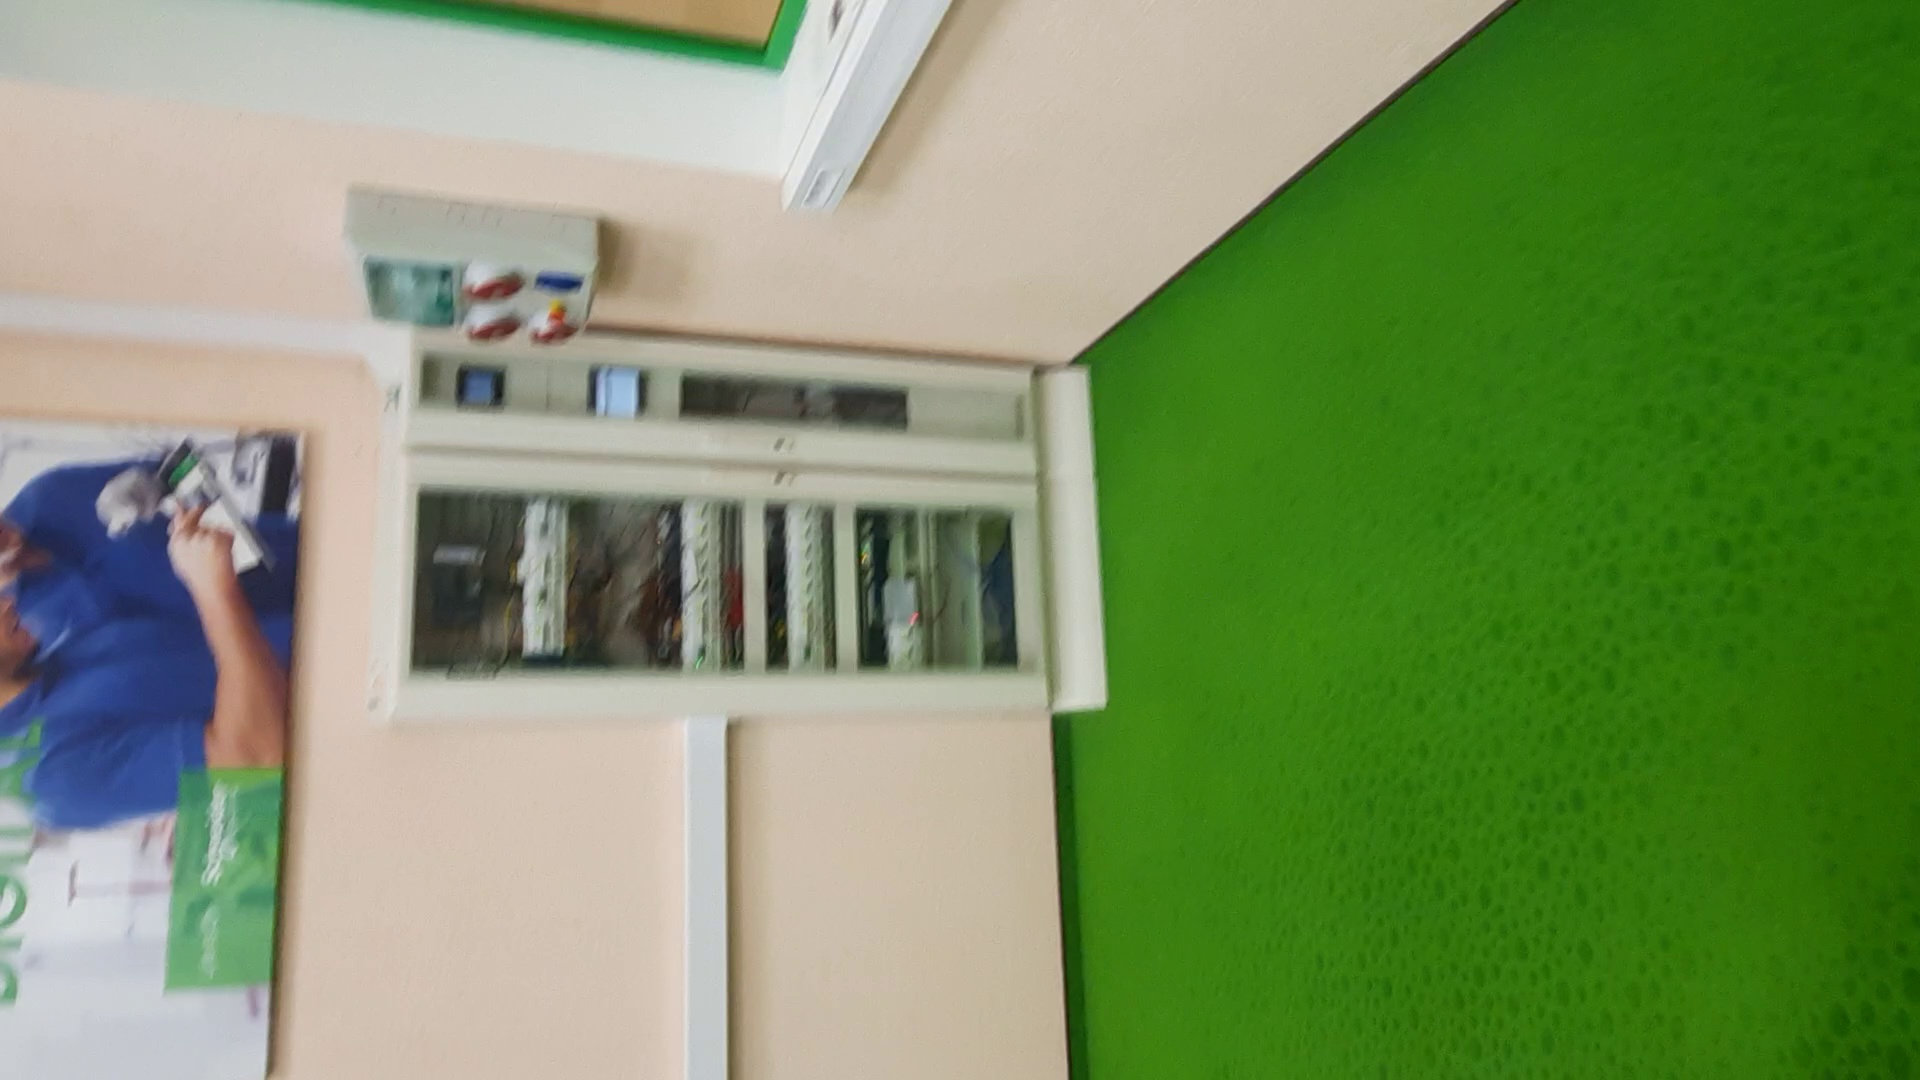stand1: (378, 316, 1106, 725)
